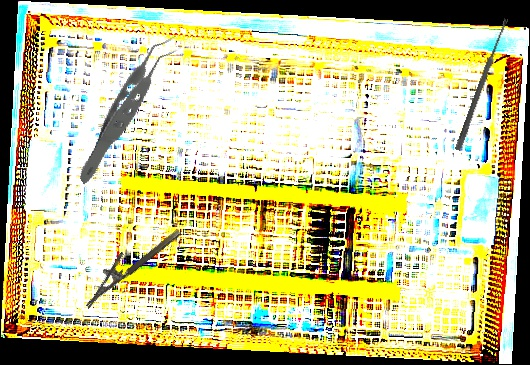Needle Holder: (73, 216, 183, 309)
Surgical Spoon: (454, 17, 510, 152)
Tissue Forceps: (41, 33, 218, 187)
